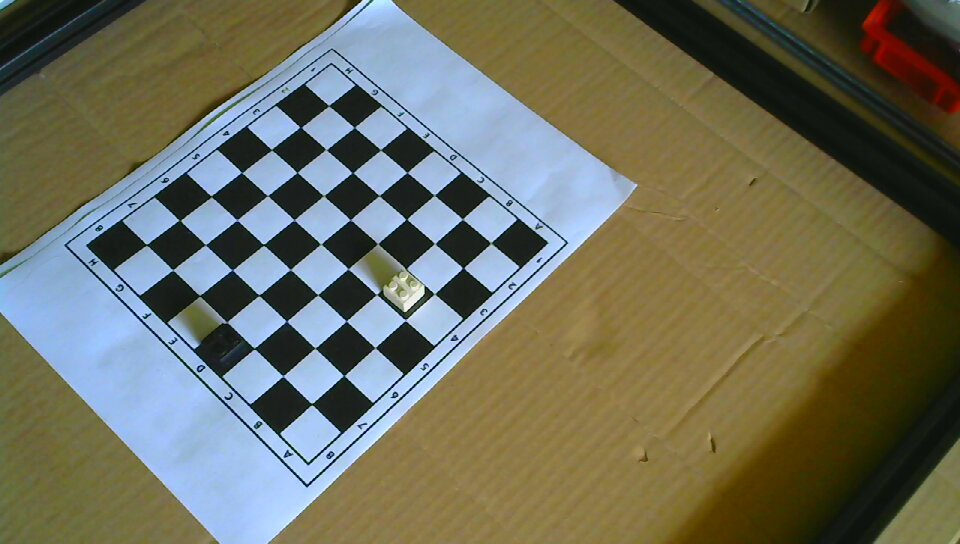bp: (200, 321, 248, 370)
wp: (382, 268, 427, 313)
